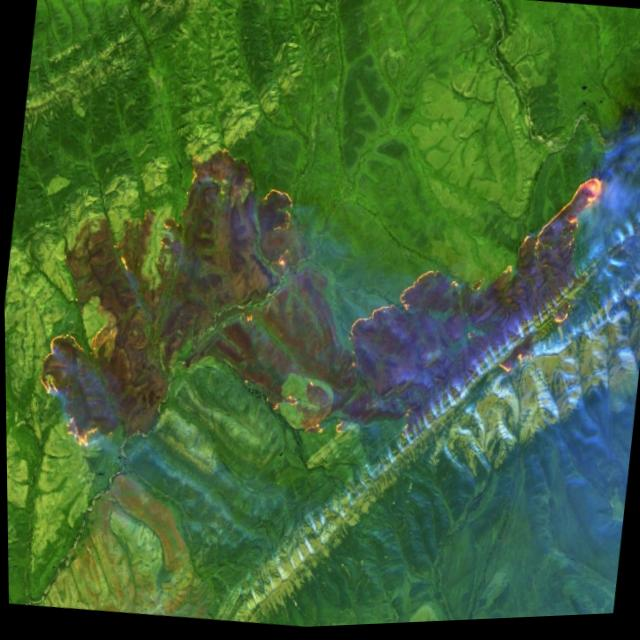fire: (23, 112, 613, 517)
